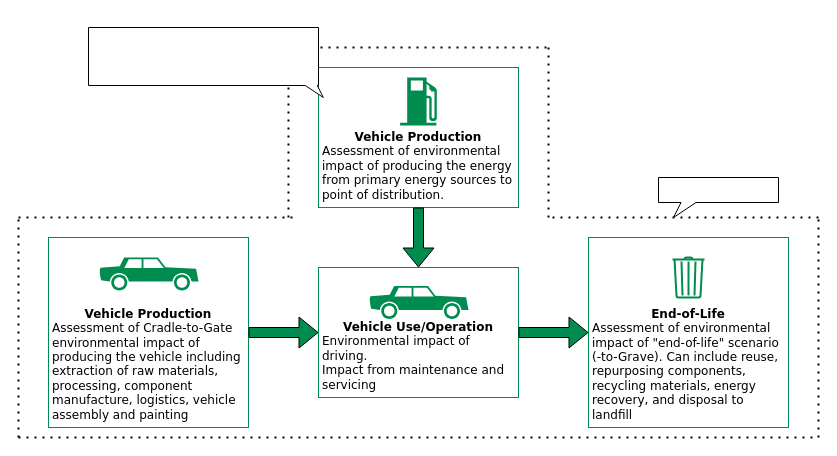
Image size: 837x456. Some labels were removed from this diagram. Each missing label, with the centre of its shape:
"Study Boundary" belongs at point (718, 197).
"Well-to-Wheel analysis LCA of the fuel or electricity used to power the vehicle" belongs at point (203, 62).
